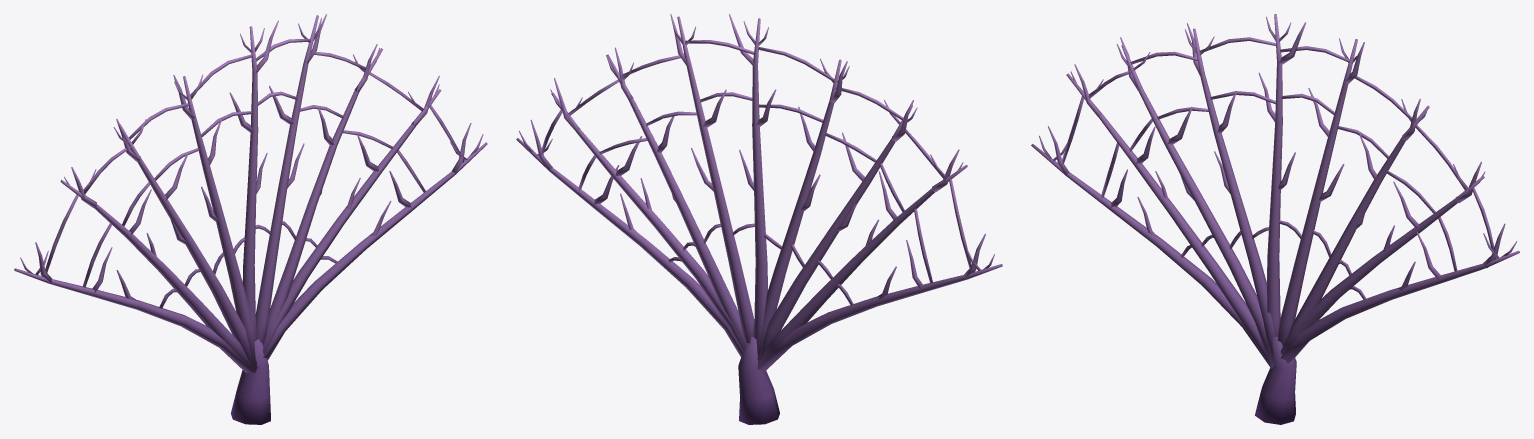
The model's file is coral-fan.glb.
The picture shows the model from 3 angles, left to right: view 1: azimuth 30°, elevation 25°; view 2: azimuth 150°, elevation 25°; view 3: azimuth 330°, elevation 25°; orthographic projection. The views are drawn at different scales.
Visible parts, largest first — view 1: coral-fan.001; view 2: coral-fan.001; view 3: coral-fan.001.
Part boxes in pixels (box(x1,y1,x2,y2)): coral-fan.001: box(14, 14, 487, 424); coral-fan.001: box(516, 14, 1002, 424); coral-fan.001: box(1031, 14, 1519, 424).
Size of the model in its own units: 3.92 by 3.09 by 0.3334.
